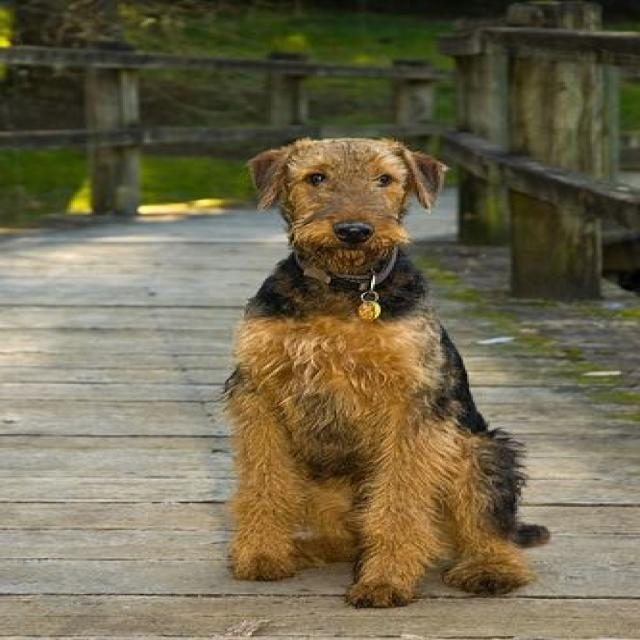airedale: (225, 137, 557, 608)
